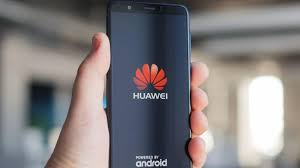huawei: (103, 1, 196, 168)
